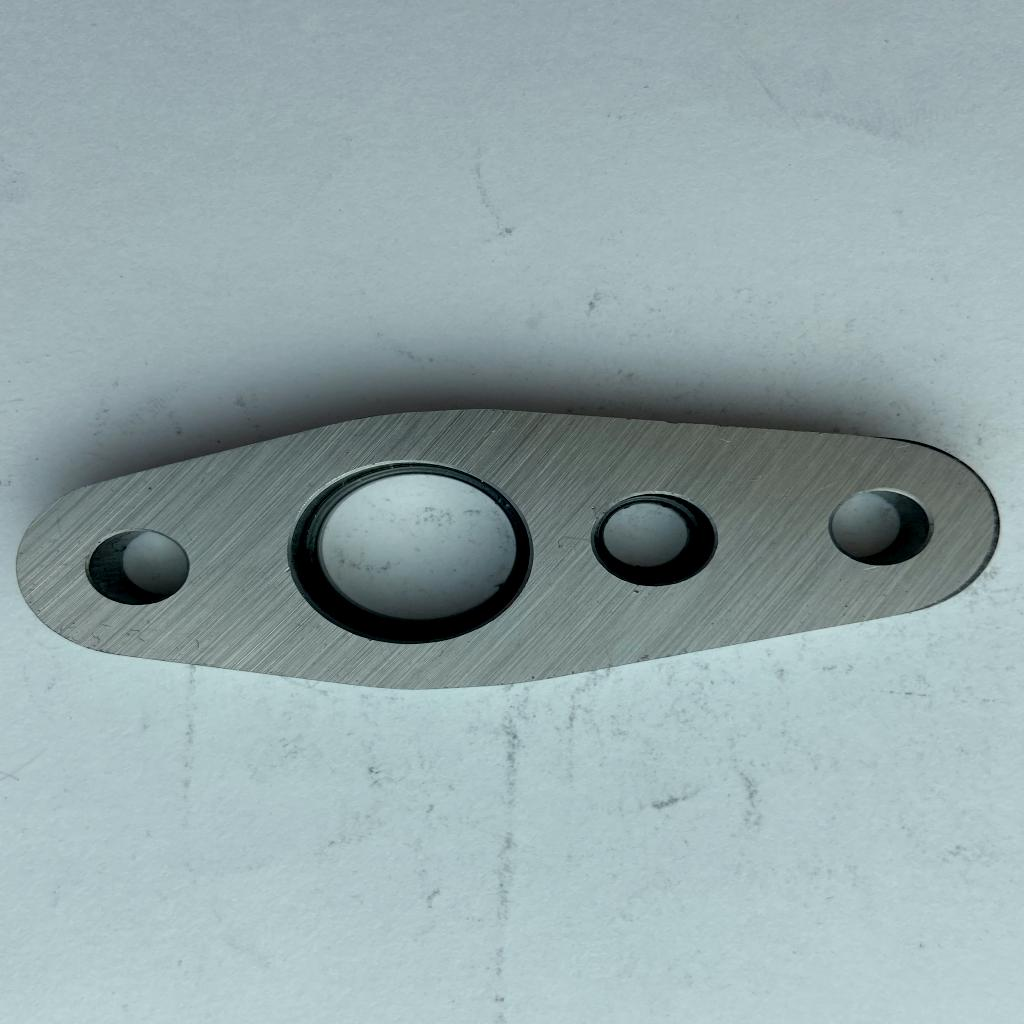chap: (279, 563, 293, 579), (626, 587, 644, 598), (586, 504, 601, 513)
